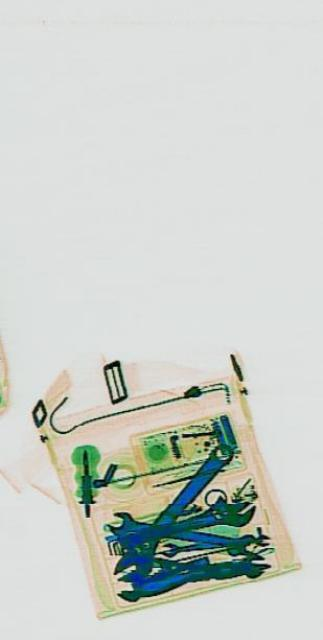Wrench: (106, 422, 237, 614), (120, 492, 255, 556), (106, 507, 253, 558), (114, 546, 207, 604), (179, 549, 263, 585)
